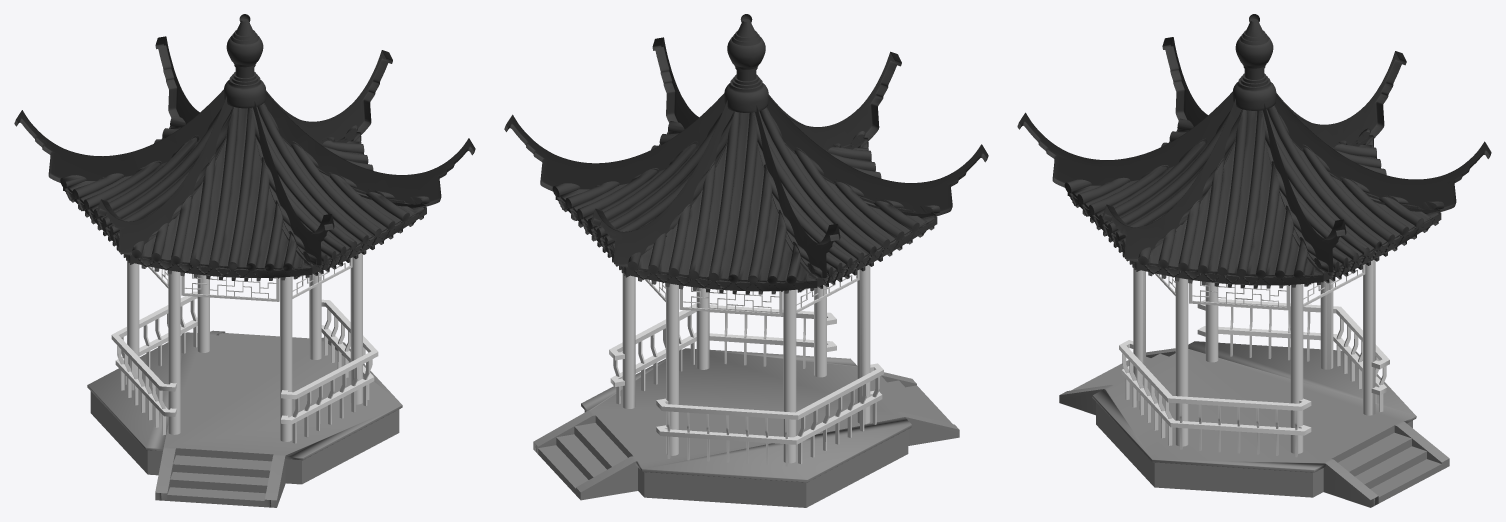
File: Chinese pavilion.fbx
3 renders of one model, left to right at view 1: azimuth 30°, elevation 25°; view 2: azimuth 150°, elevation 25°; view 3: azimuth 270°, elevation 25°, orthographic. The views are drawn at different scales.
Visible parts, largest first — view 1: tingzi dimo.001, tingzi dimo, madera cili, madera; view 2: tingzi dimo.001, tingzi dimo, madera cili, madera; view 3: tingzi dimo.001, tingzi dimo, madera cili, madera.
Part boxes in pixels (x1,y1,x2,y2): tingzi dimo.001: (14, 14, 475, 281); tingzi dimo: (87, 330, 402, 507); madera cili: (127, 253, 362, 441); madera: (111, 291, 378, 443); tingzi dimo.001: (504, 14, 988, 294); tingzi dimo: (533, 348, 959, 507); madera cili: (622, 265, 870, 463); madera: (609, 304, 883, 466); tingzi dimo.001: (1017, 14, 1491, 288); tingzi dimo: (1059, 341, 1449, 507); madera cili: (1133, 260, 1375, 453); madera: (1119, 299, 1389, 457).
Size of the model in its own units: 29.15 by 30.16 by 30.85.
Materials: 3 (2 with a texture image).
